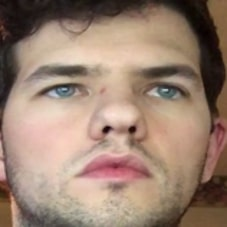drowsy: (23, 45, 208, 197)
